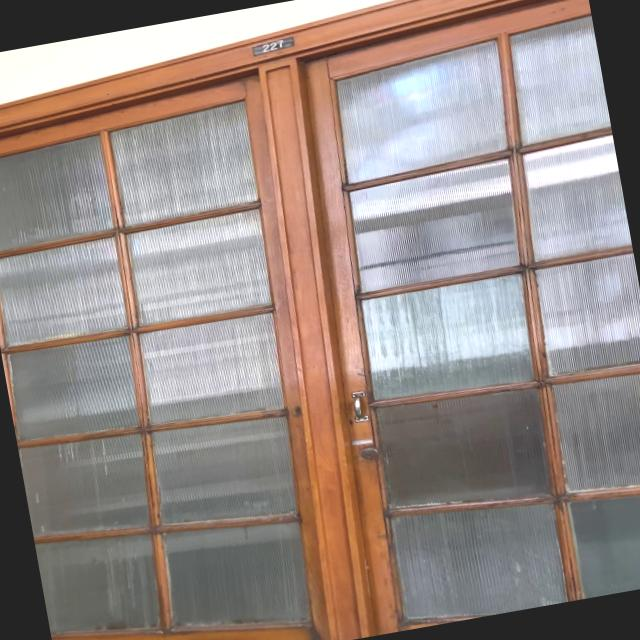room227: (248, 34, 296, 57)
